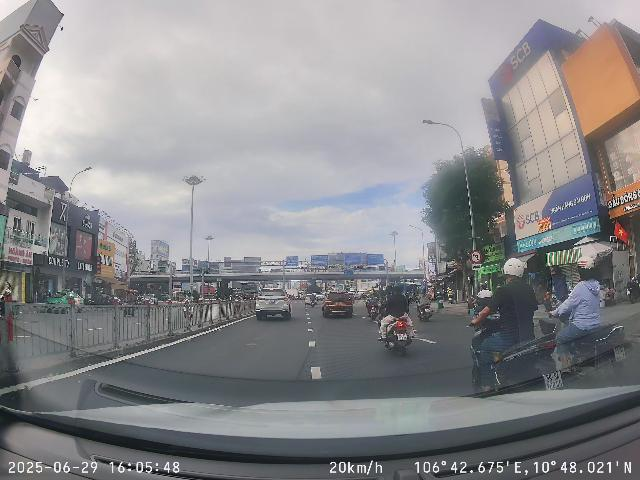123a-cam-re-trai: (470, 250, 482, 263)
